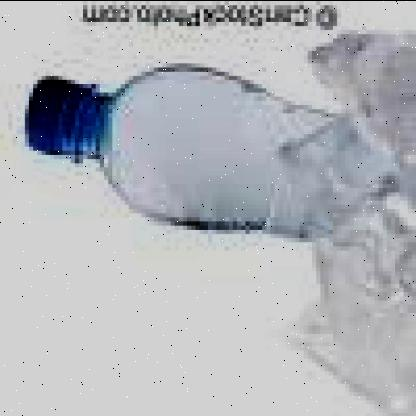Plastic Bottle: (23, 60, 412, 242)
